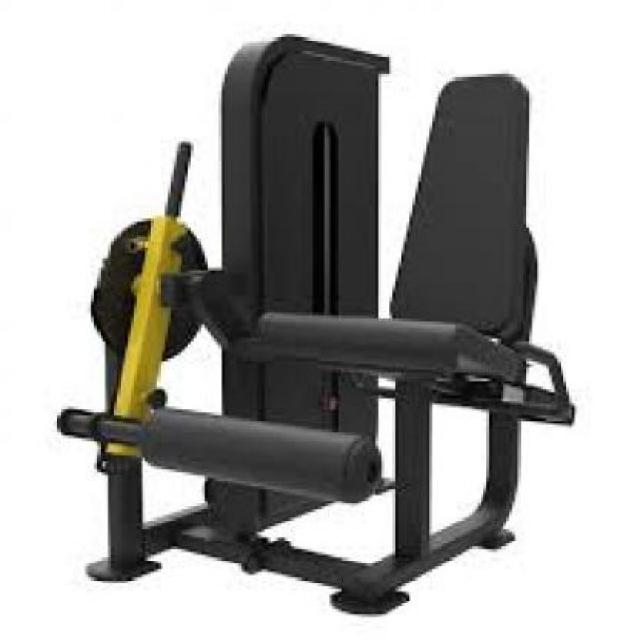leg extension: (44, 22, 598, 629)
